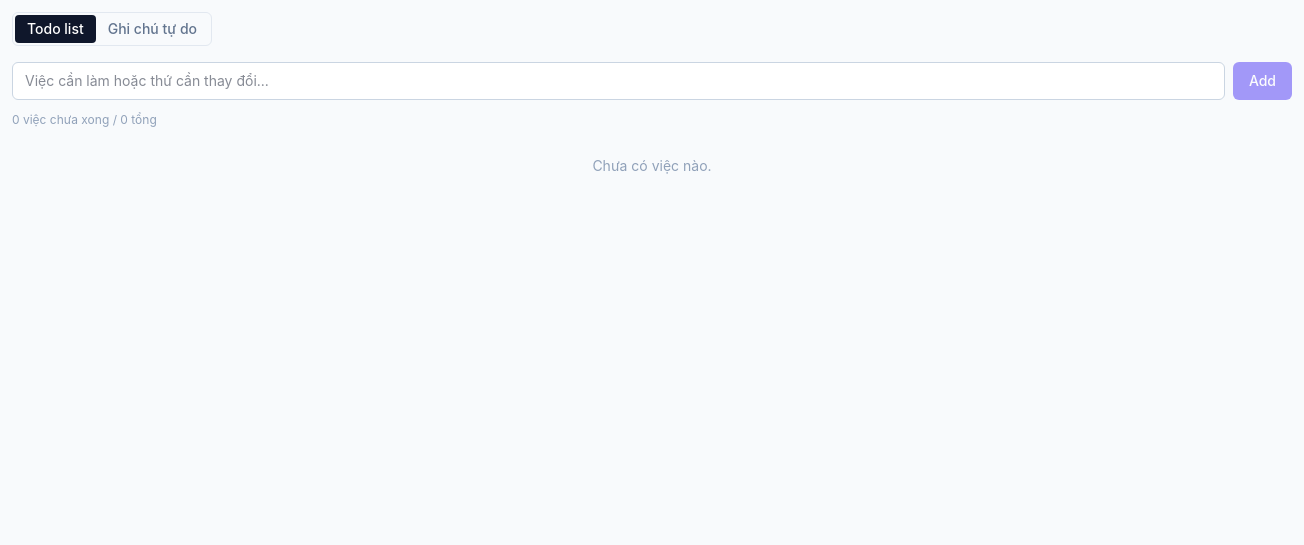
NotesTool saved notes › edits and re-saves an existing note in place
Click the button "Ghi chú tự do" at (152, 29), box top-left (96, 15), bottom-right (209, 43)
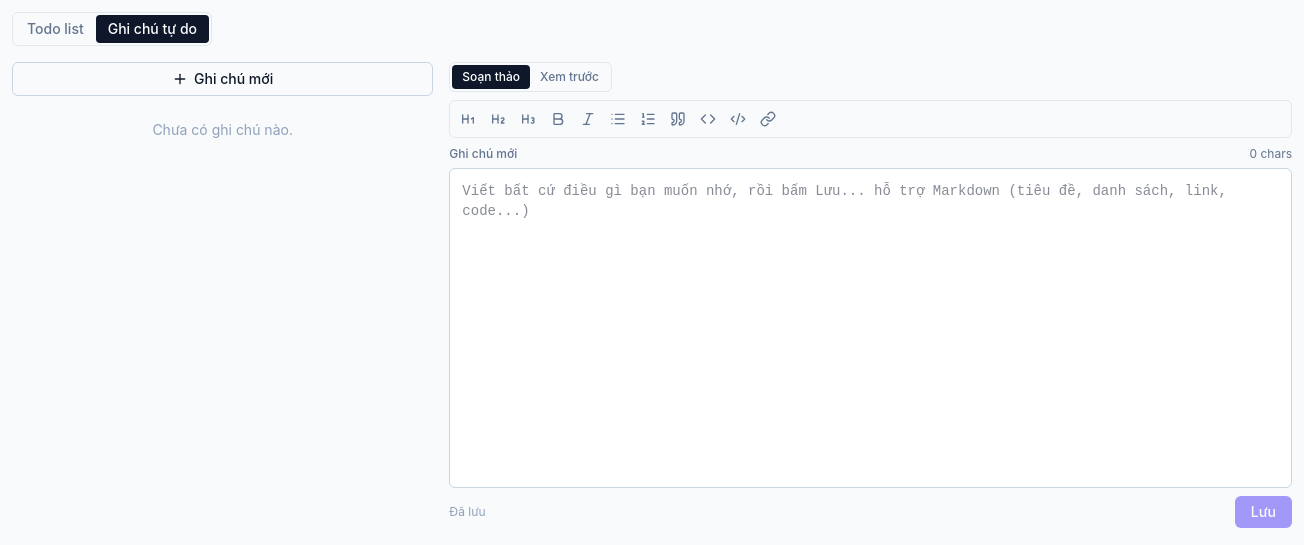
Replace the text in the text box with placeholder "Viết bất cứ điều gì bạn muốn nhớ, rồi bấm Lưu... hỗ trợ Markdown (tiêu đề, danh sách, link, code...)" with "Original title" at (871, 328), box top-left (449, 168), bottom-right (1292, 488)
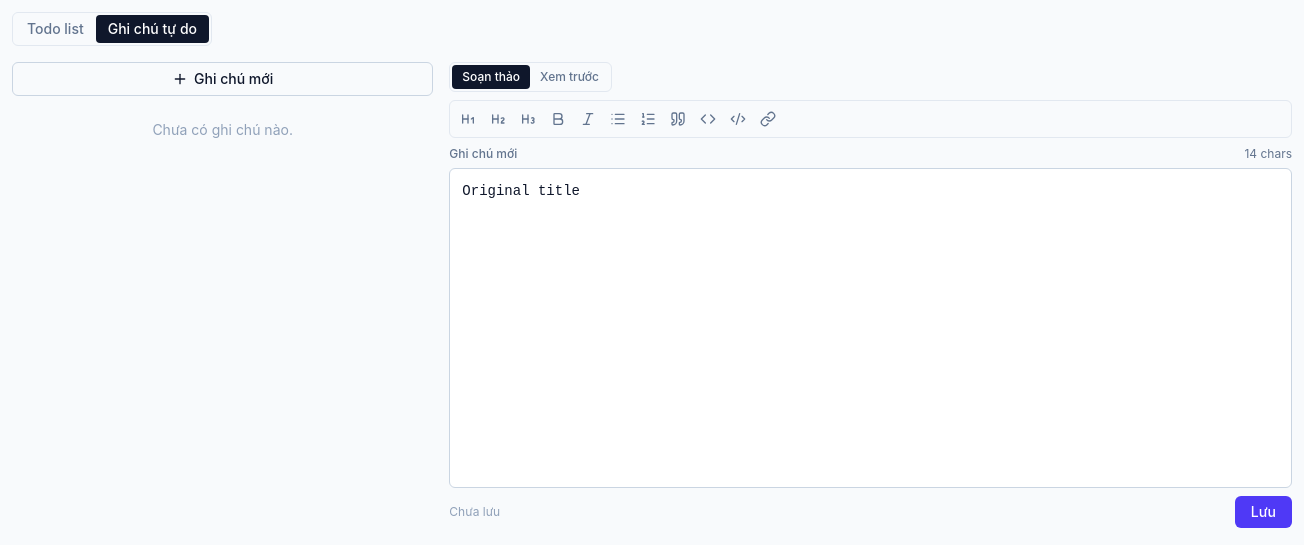
Click the button "Lưu" at (1263, 512), box top-left (1235, 496), bottom-right (1292, 528)
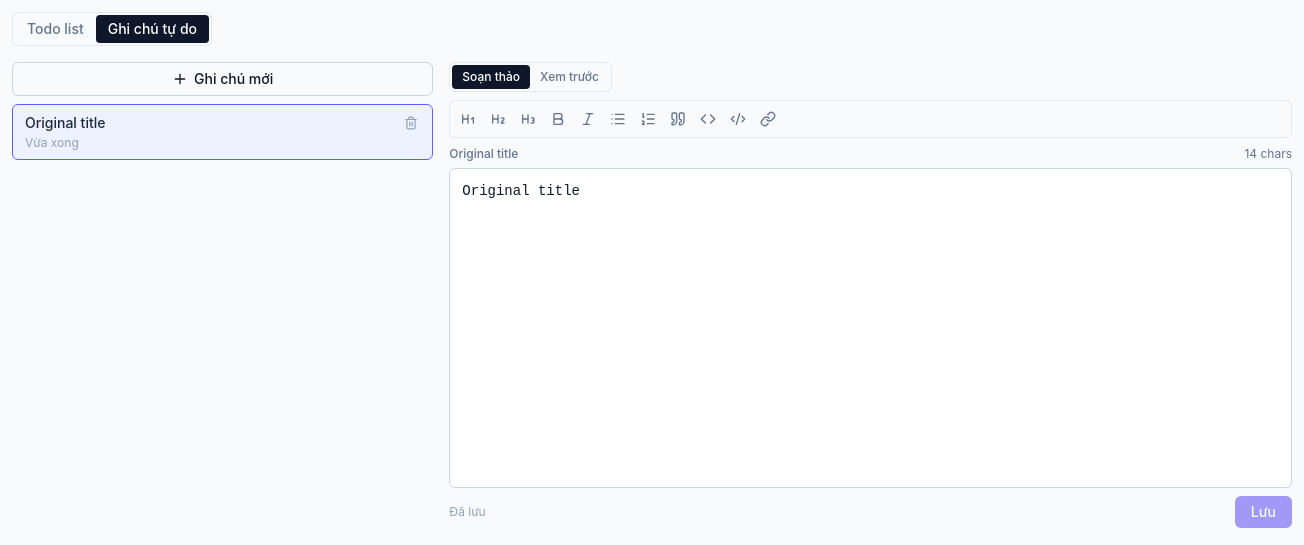
Replace the text in the text box with placeholder "Viết bất cứ điều gì bạn muốn nhớ, rồi bấm Lưu... hỗ trợ Markdown (tiêu đề, danh sách, link, code...)" with "Updated title" at (871, 328), box top-left (449, 168), bottom-right (1292, 488)
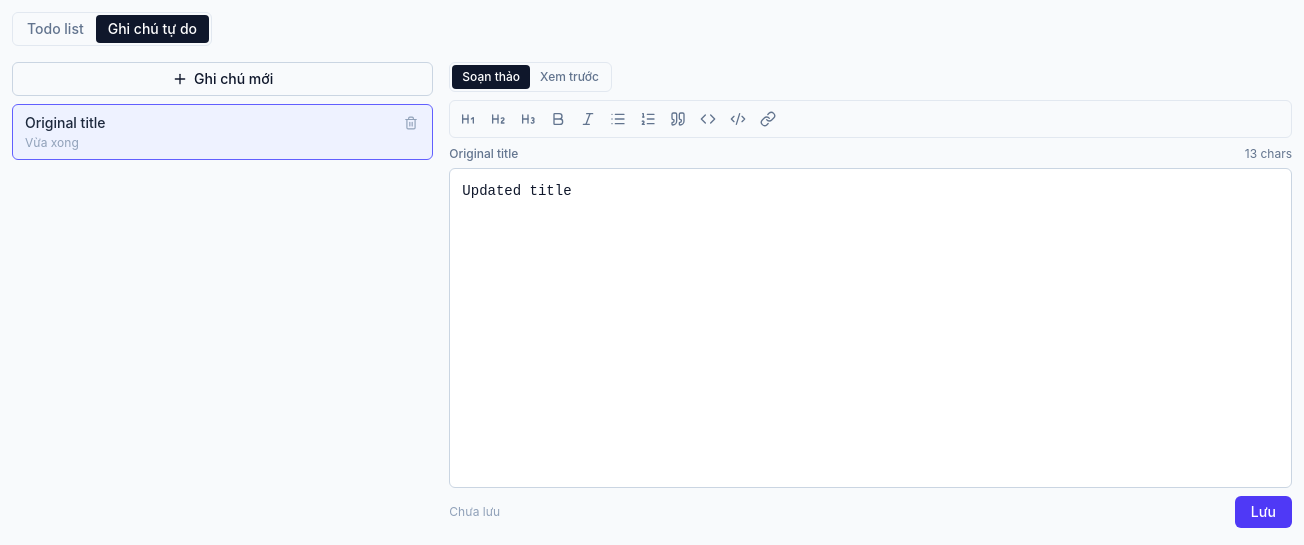
Click the button "Lưu" at (1263, 512), box top-left (1235, 496), bottom-right (1292, 528)
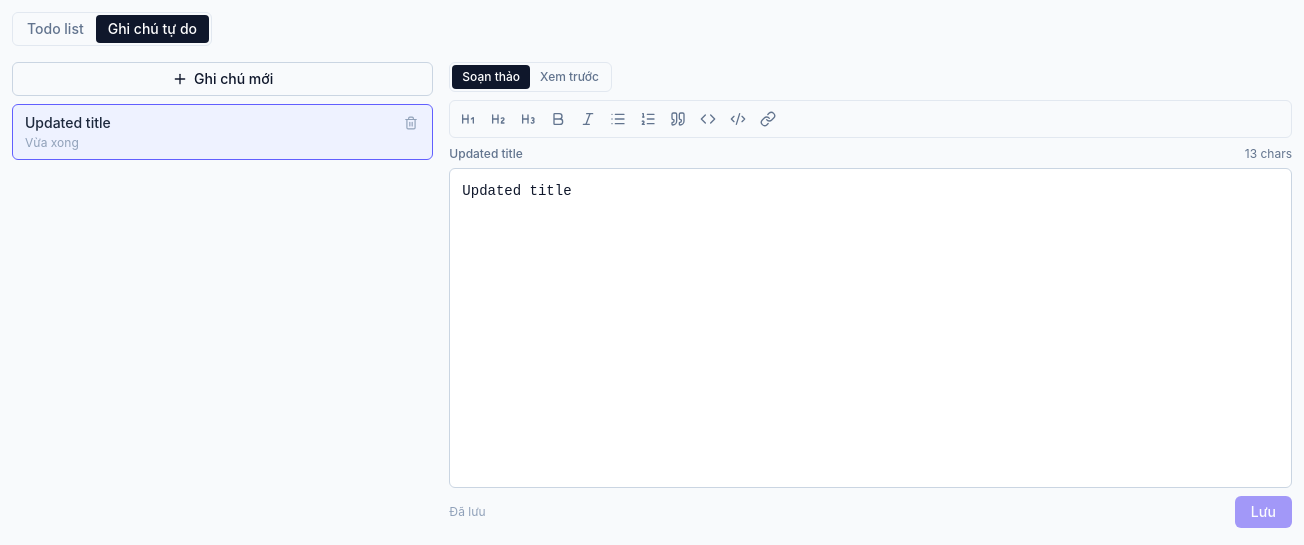
expect the text "Updated title" is shown once: met, box top-left (25, 114), bottom-right (111, 131)
expect the number of list items is 1: met, box top-left (12, 104), bottom-right (433, 160)
expect the text "Original title" is gone: met
